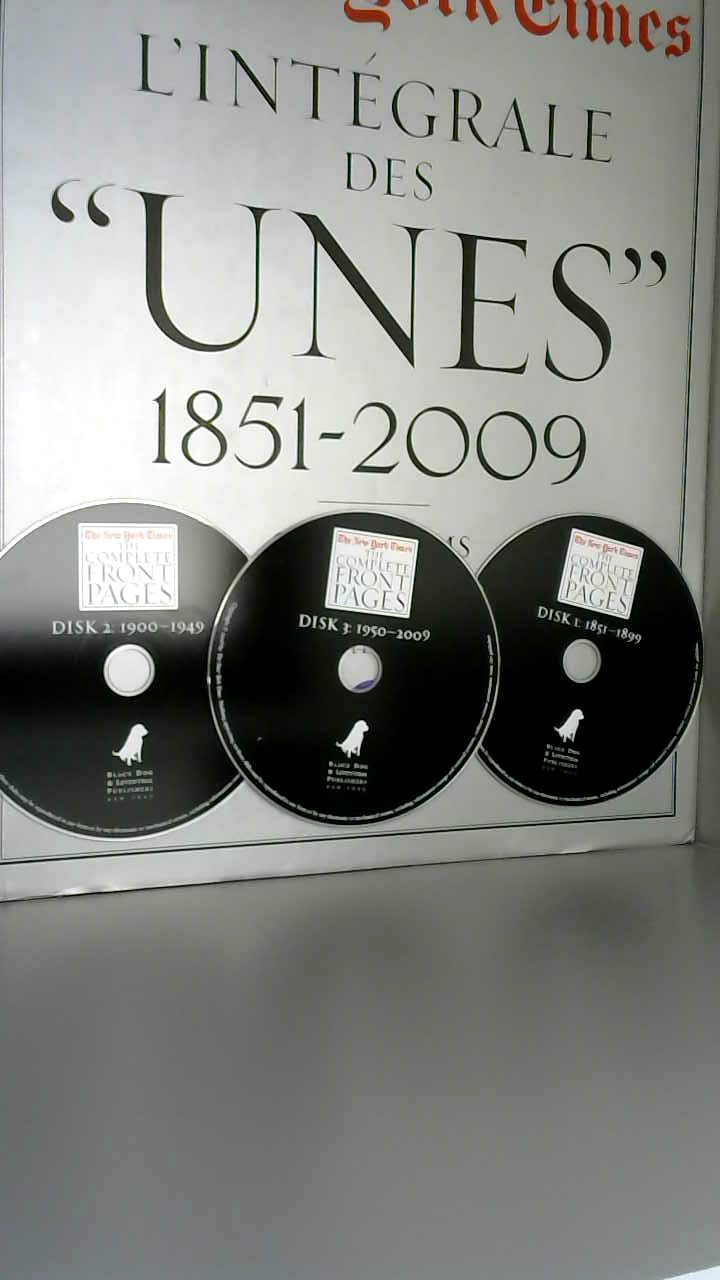book: (0, 0, 716, 917)
